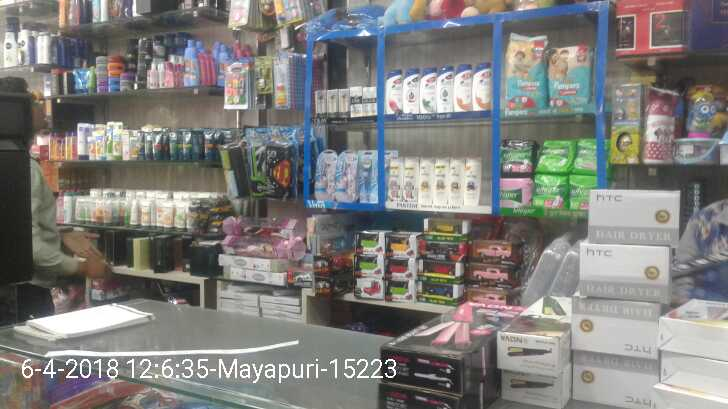venus: (312, 148, 337, 202), (337, 148, 359, 204), (359, 148, 378, 204)
